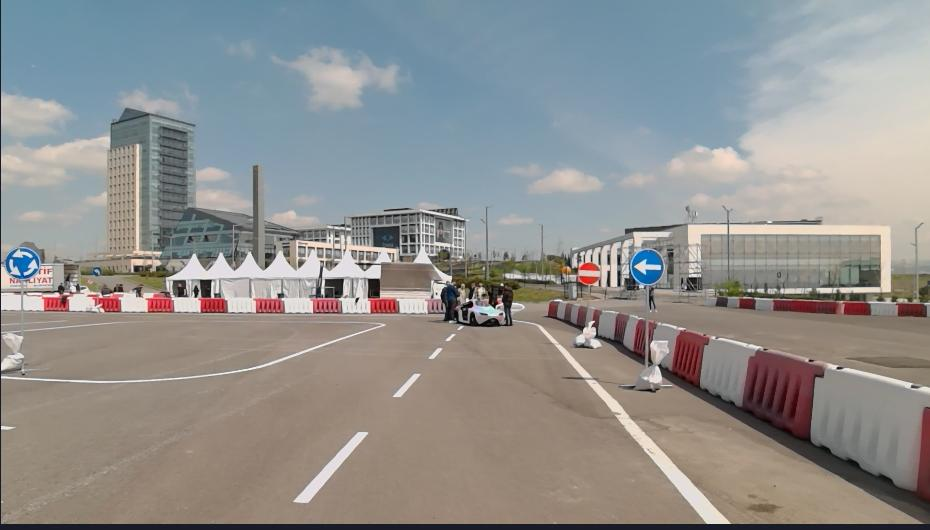nesne: (0, 310, 729, 529), (0, 311, 469, 527), (265, 314, 728, 524), (656, 322, 926, 507), (513, 316, 729, 525), (2, 320, 387, 384), (808, 362, 924, 492), (742, 346, 823, 440), (98, 296, 444, 312), (295, 430, 369, 501), (702, 338, 754, 407), (615, 343, 670, 391), (379, 261, 446, 298), (667, 329, 706, 386), (706, 296, 834, 312), (912, 389, 928, 505), (27, 262, 81, 296), (456, 299, 503, 327), (656, 323, 681, 374), (845, 299, 927, 314), (629, 248, 664, 283), (4, 247, 39, 278), (773, 298, 833, 312), (0, 332, 19, 373), (442, 279, 461, 319), (597, 309, 620, 342), (393, 371, 420, 395), (456, 279, 488, 299), (501, 279, 514, 327), (575, 322, 600, 346), (643, 283, 650, 368), (19, 277, 25, 373), (0, 264, 20, 292), (613, 312, 628, 346), (625, 314, 638, 352), (577, 261, 600, 282), (396, 297, 425, 313), (369, 296, 396, 313), (634, 317, 645, 358), (229, 297, 257, 312), (120, 298, 149, 312), (146, 297, 175, 311), (254, 298, 283, 312), (281, 298, 310, 312), (310, 297, 339, 311), (339, 298, 368, 312), (42, 295, 69, 310), (201, 298, 228, 313), (67, 295, 93, 310), (869, 302, 897, 315), (173, 298, 200, 311), (834, 288, 846, 316), (896, 303, 924, 315), (844, 300, 869, 313), (0, 294, 19, 311), (584, 282, 591, 327), (25, 294, 43, 311), (98, 297, 119, 311), (568, 301, 578, 325), (427, 299, 445, 312), (131, 281, 145, 297), (561, 301, 571, 322), (576, 305, 585, 328), (427, 346, 442, 359), (546, 301, 558, 317), (754, 299, 773, 309), (651, 286, 658, 312), (593, 310, 600, 335), (556, 301, 565, 320), (101, 282, 114, 293), (177, 282, 187, 296), (740, 299, 755, 308), (57, 281, 66, 295), (728, 298, 740, 308), (113, 281, 124, 291), (716, 297, 727, 307), (92, 265, 102, 275), (706, 296, 716, 306), (95, 275, 98, 305), (588, 308, 593, 325), (192, 283, 199, 295), (65, 271, 70, 286)
